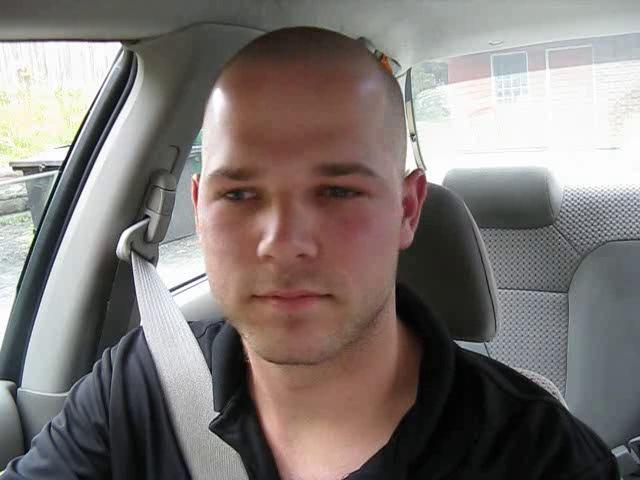no_yawn: (228, 270, 348, 332)
open_eyeL: (196, 170, 279, 222)
open_eyeR: (298, 166, 392, 218)
